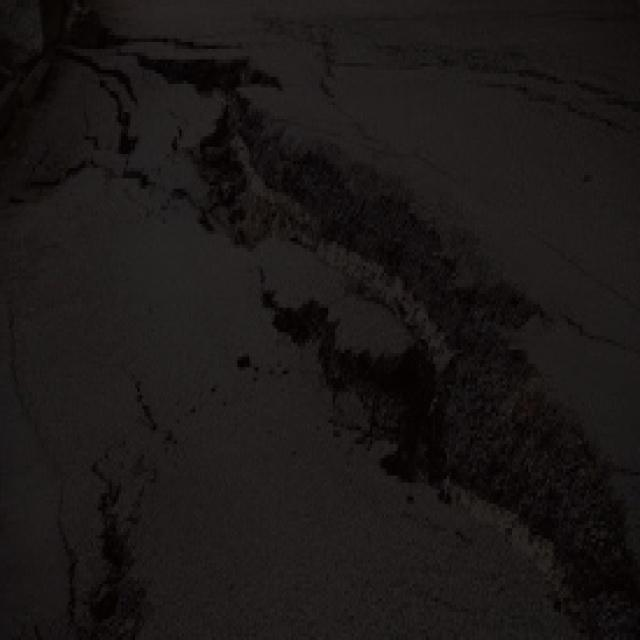Pothole: (126, 39, 640, 640), (61, 454, 169, 640)
